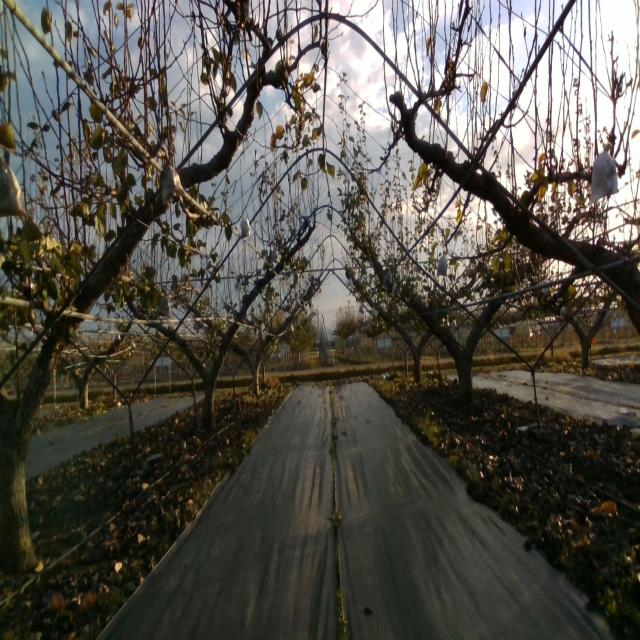pearbags: (0, 154, 28, 218), (590, 144, 619, 204), (162, 164, 186, 205), (437, 248, 448, 278), (240, 214, 250, 238)
